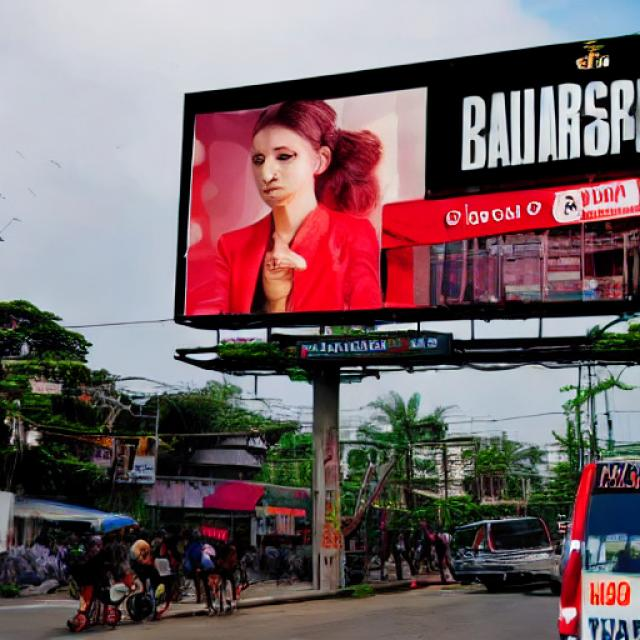Billboard: (171, 31, 640, 332)
